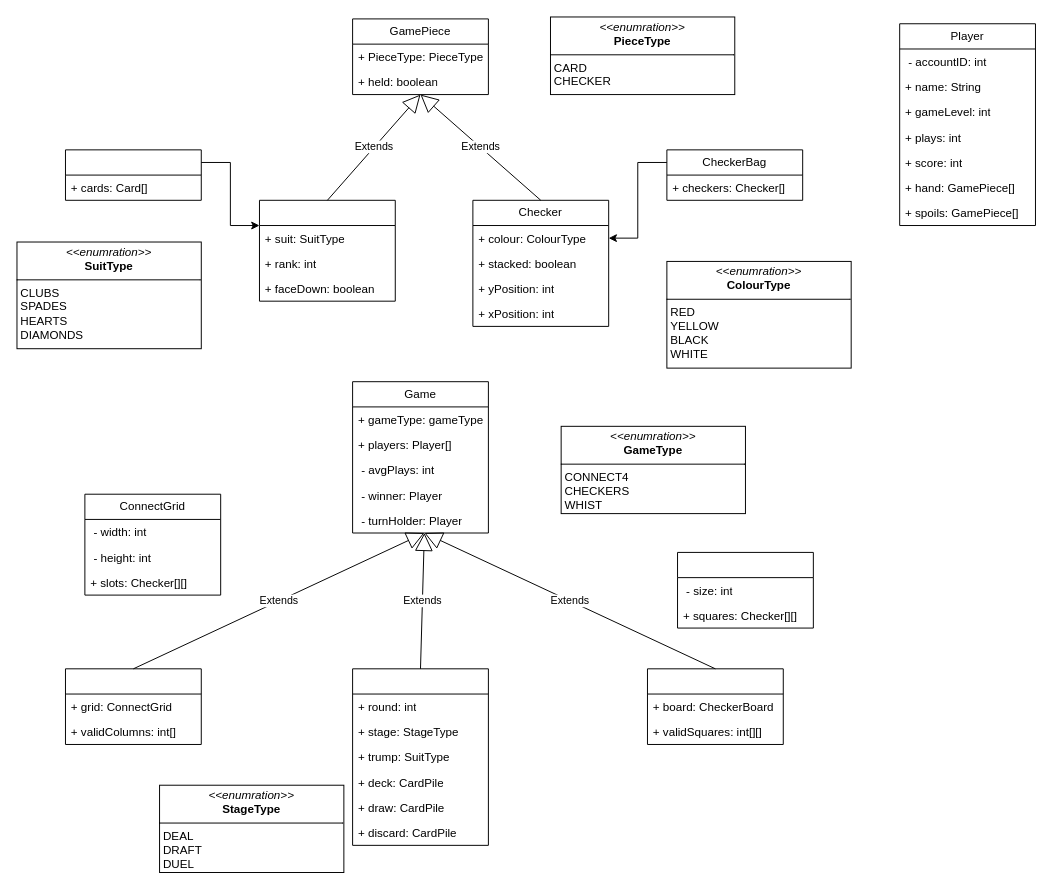
The diagram is 1052 pixels wide and 889 high, and some of its shapes have lost their labels. The shapes that lost their labels are listed below. From the top down, each one's box as (x1, y1, x2, y2) in pixels, then its label:
(65, 149, 201, 200): CardPile
(259, 199, 395, 301): Card
(677, 551, 813, 628): CheckerBoard
(65, 668, 201, 744): ConnectFourGame
(647, 668, 783, 744): CheckersGame
(352, 668, 488, 845): WhistGame
